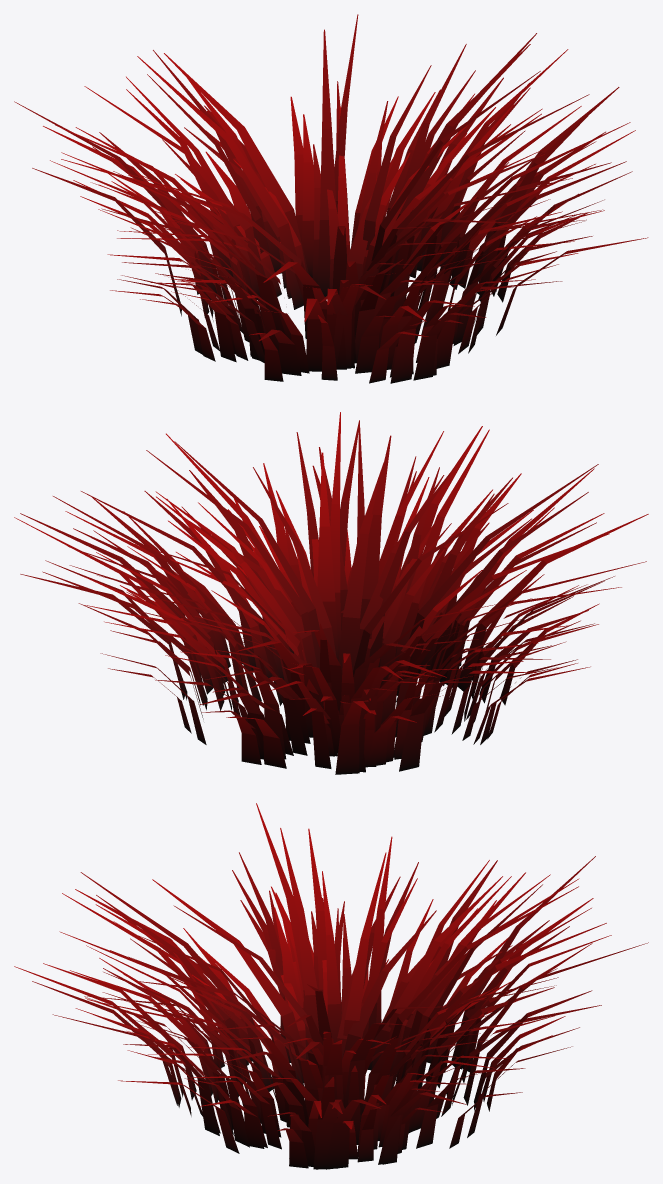
File: alpine_tussock_v3.fbx
3 views of the same model, one above another, from view 1: azimuth 30°, elevation 25°; view 2: azimuth 150°, elevation 25°; view 3: azimuth 270°, elevation 25° (orthographic). The views are drawn at different scales.
Visible parts, largest first — view 1: alpine_tussock_v3; view 2: alpine_tussock_v3; view 3: alpine_tussock_v3.
Boxes of the visible parts, <box> form: alpine_tussock_v3: <box>14,14,648,383</box>; alpine_tussock_v3: <box>14,412,648,774</box>; alpine_tussock_v3: <box>14,803,648,1169</box>.
Size of the model in its own units: 94.61 by 34.01 by 95.82.
